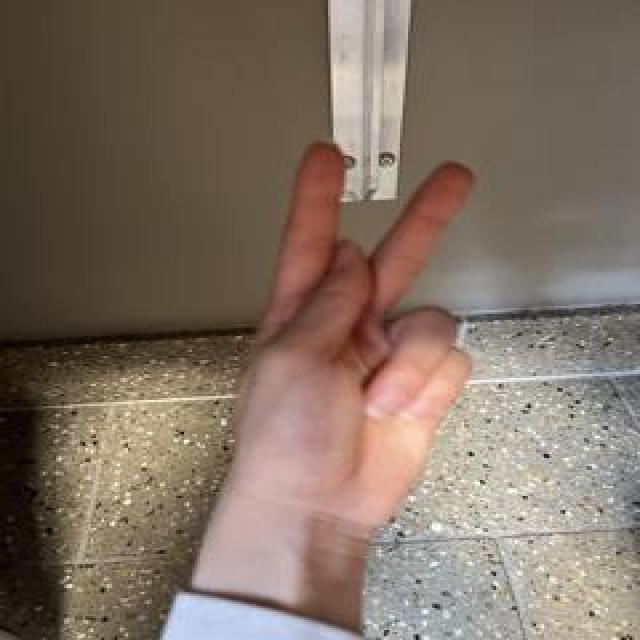K: (215, 134, 481, 528)
